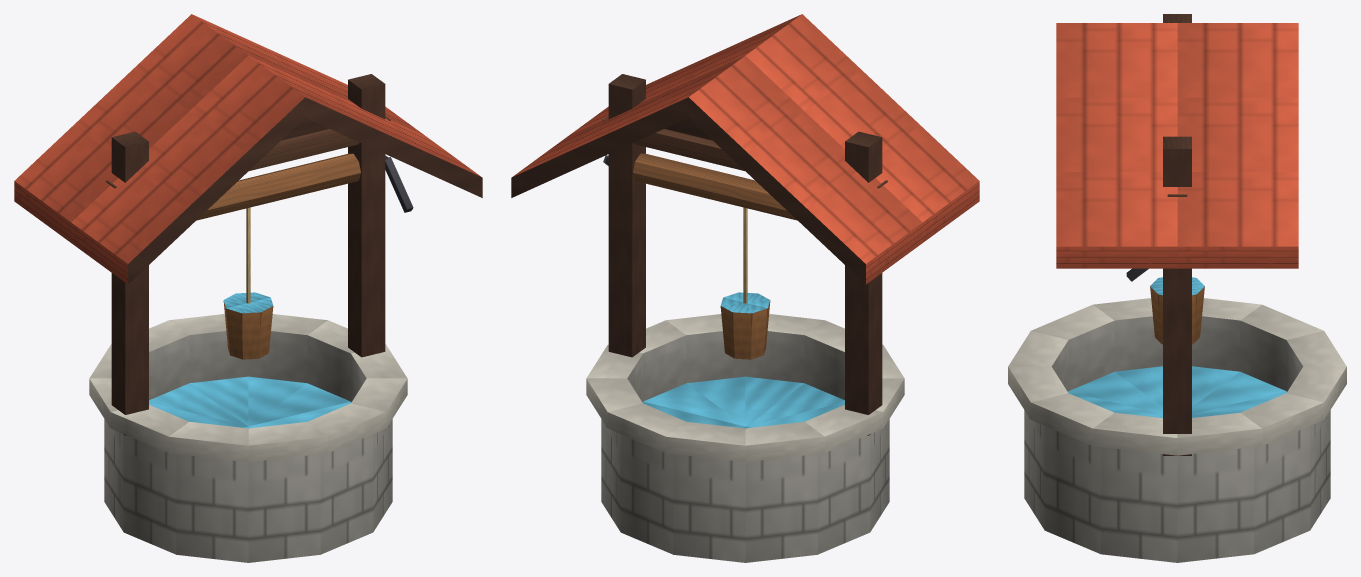
Rendered from prop_well_01.glb.
3 renders of one model, left to right at view 1: azimuth 30°, elevation 25°; view 2: azimuth 150°, elevation 25°; view 3: azimuth 270°, elevation 25°, orthographic. The views are drawn at different scales.
Visible parts, largest first — view 1: prop_well_01; view 2: prop_well_01; view 3: prop_well_01.
Part boxes in pixels (bbox=[...]): prop_well_01: bbox=[14, 14, 482, 562]; prop_well_01: bbox=[511, 14, 979, 562]; prop_well_01: bbox=[1008, 14, 1346, 562].
Bounding box in the file's own units: 2.7 × 3.25 × 2.1.
1 material, 1 textured.
